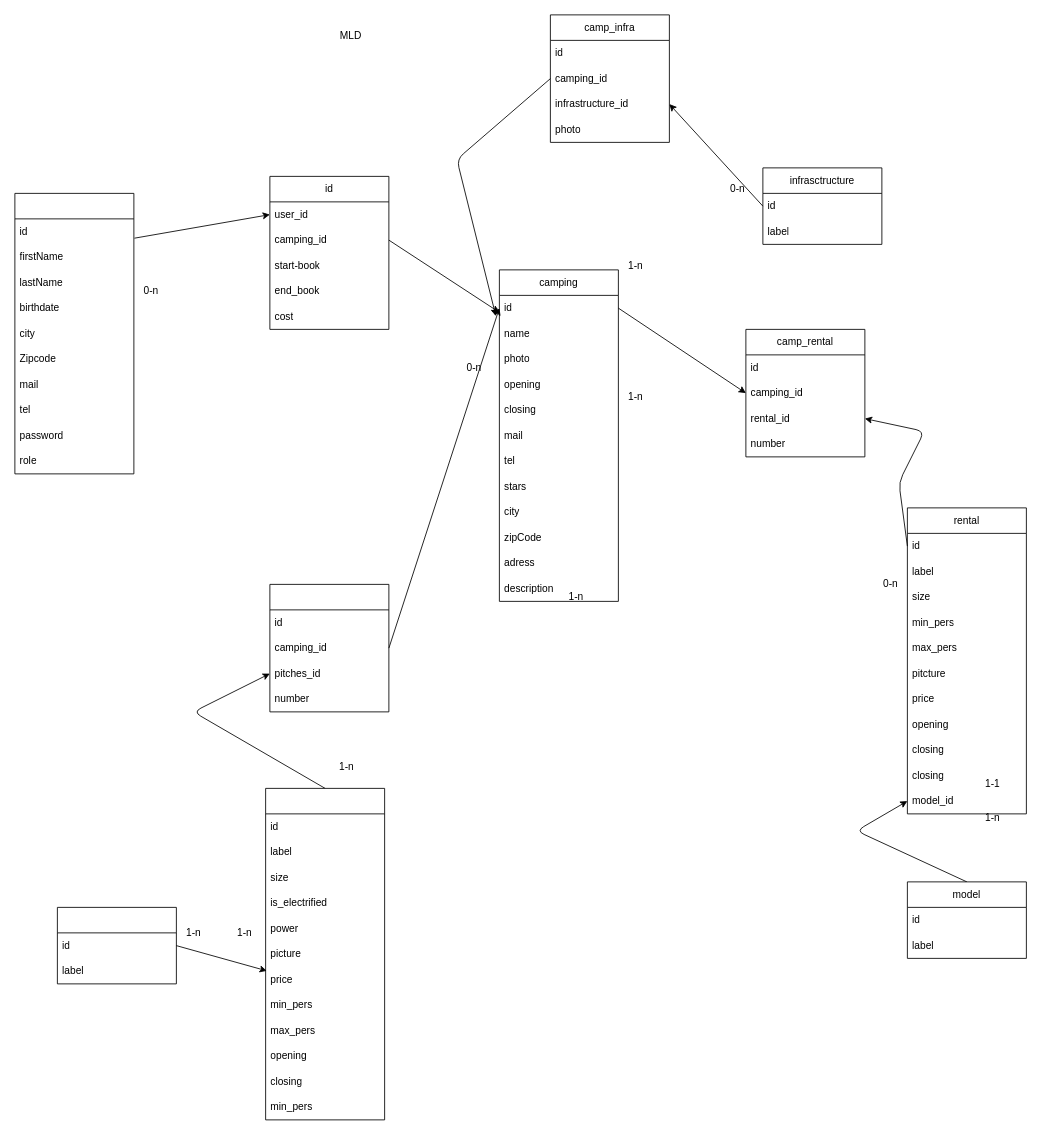
Image size: 1041x1135. Some labels were removed from this diagram. The box of each missing label's shape, as (x1, y1, x2, y2) in pixels:
camp_pitches: (269, 584, 389, 712)
pitches: (265, 788, 385, 1120)
type_pitches: (57, 907, 176, 984)
user: (14, 193, 134, 474)
